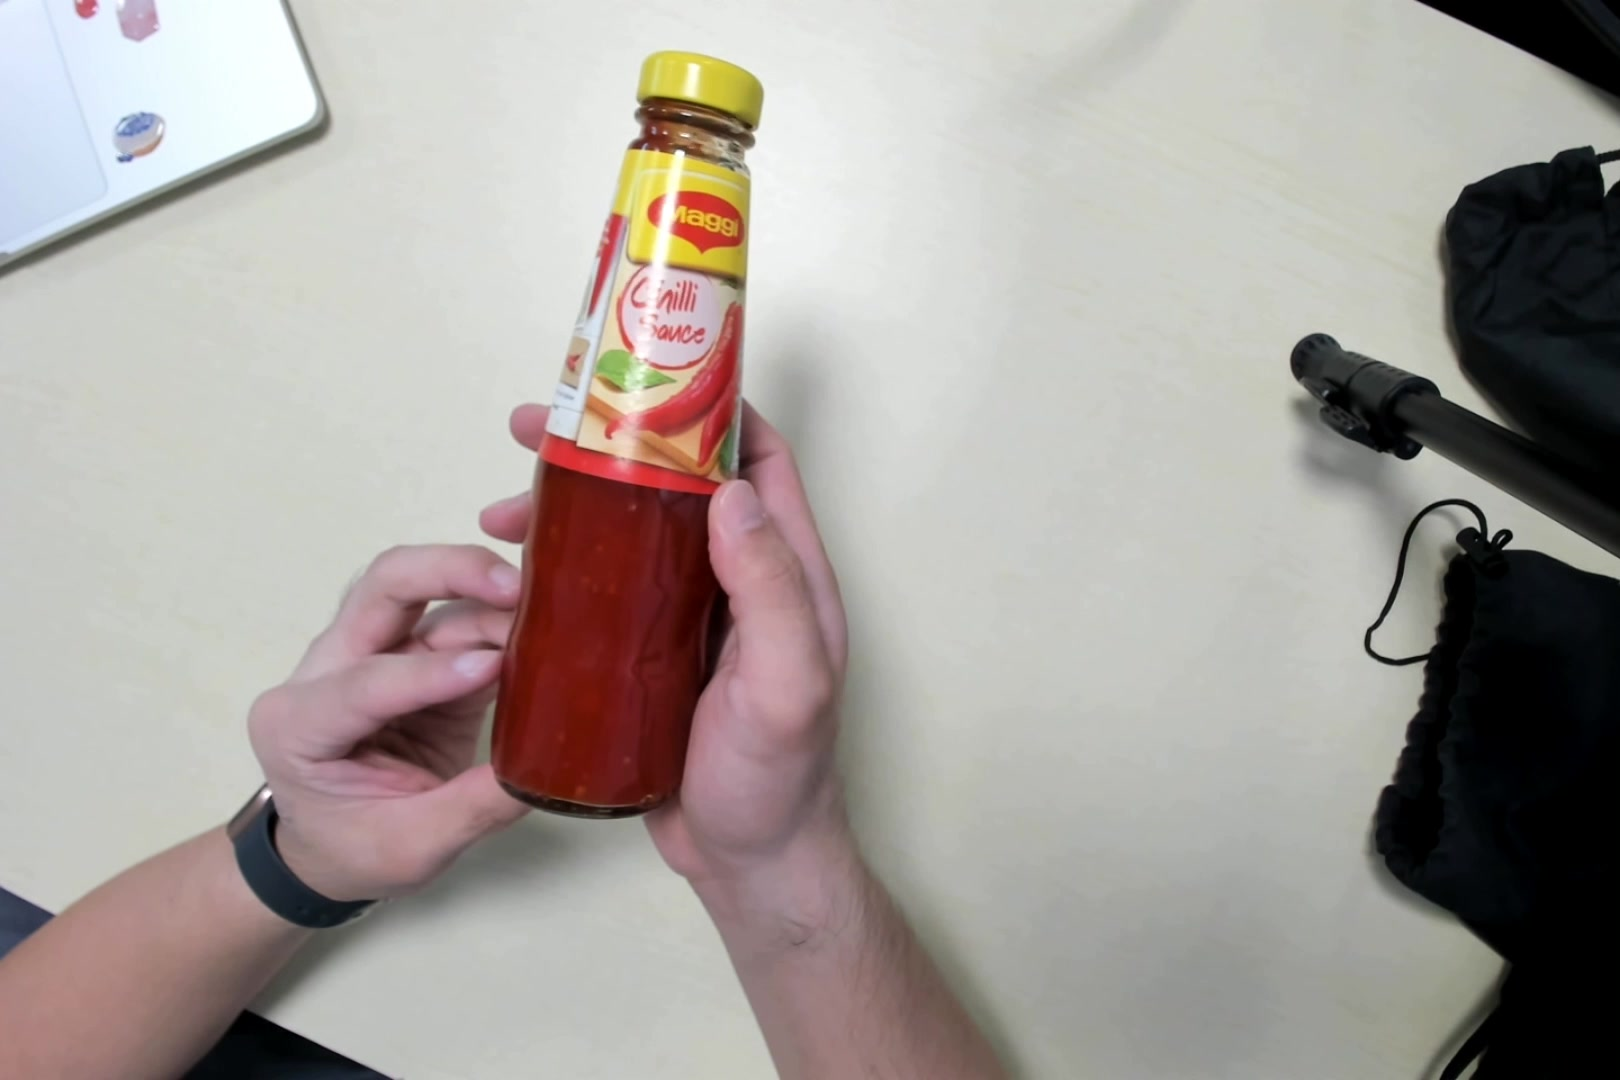KetchupChillSauce_300-399g_Halal_NonHealthy: (499, 36, 769, 829)
